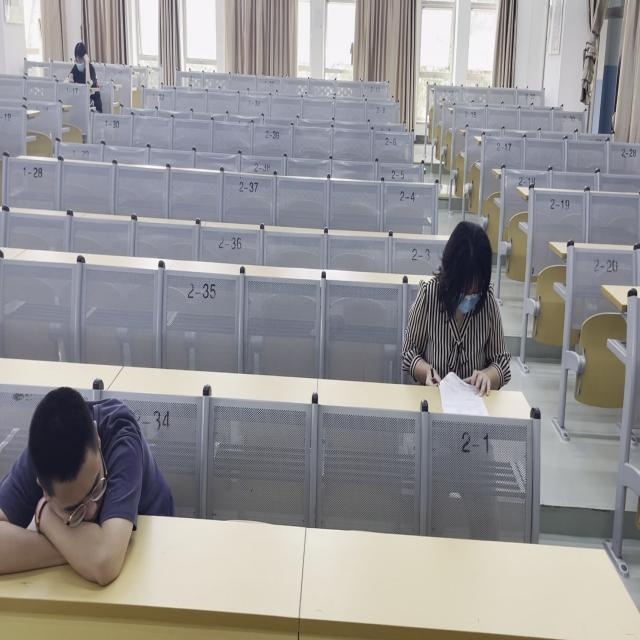sleep: (0, 387, 170, 590)
study: (408, 217, 513, 405), (70, 40, 95, 90)
